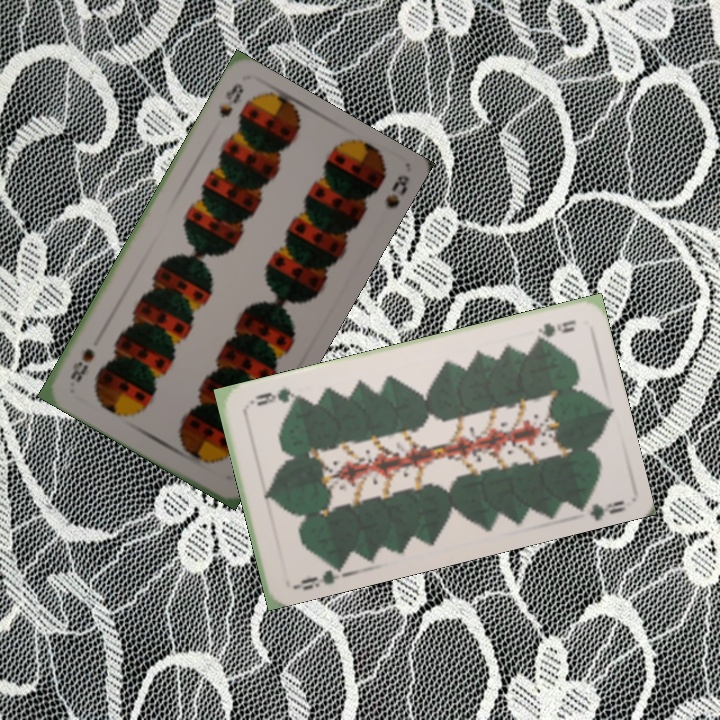G9: (289, 559, 346, 593), (530, 315, 579, 344)
S8: (214, 79, 247, 120)
